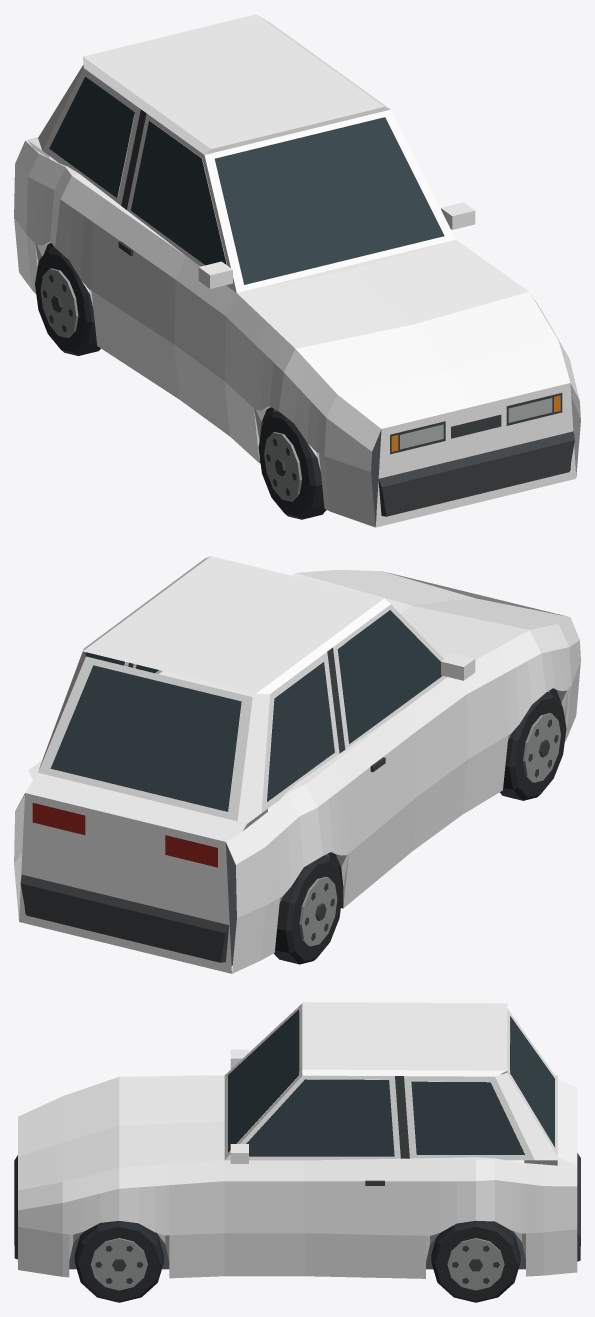
File: hozuki_samidare_gt_98.glb
3 views of the same model, one above another, from view 1: azimuth 30°, elevation 25°; view 2: azimuth 150°, elevation 25°; view 3: azimuth 270°, elevation 25° (orthographic). The views are drawn at different scales.
Parts seen in each view (by area): view 1: hozuki_samidare_gt_98; view 2: hozuki_samidare_gt_98; view 3: hozuki_samidare_gt_98.
Boxes of the visible parts, left/top/right/bottom form: hozuki_samidare_gt_98: left=14, top=14, right=580, bottom=527; hozuki_samidare_gt_98: left=14, top=556, right=580, bottom=973; hozuki_samidare_gt_98: left=14, top=1002, right=580, bottom=1302.
Bounding box in the file's own units: 1.63 × 1.59 × 3.75.
Materials: 8 (1 with a texture image).
